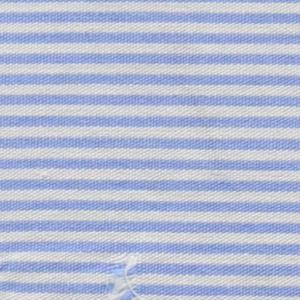Damage: (102, 250, 159, 300)
